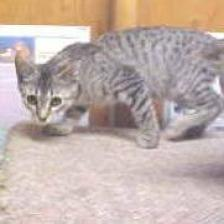cat: (12, 39, 90, 134)
